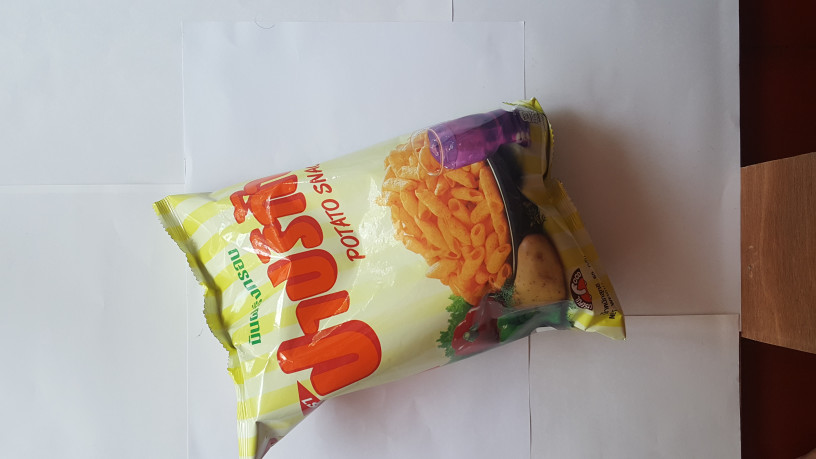paprika: (147, 104, 643, 459)
